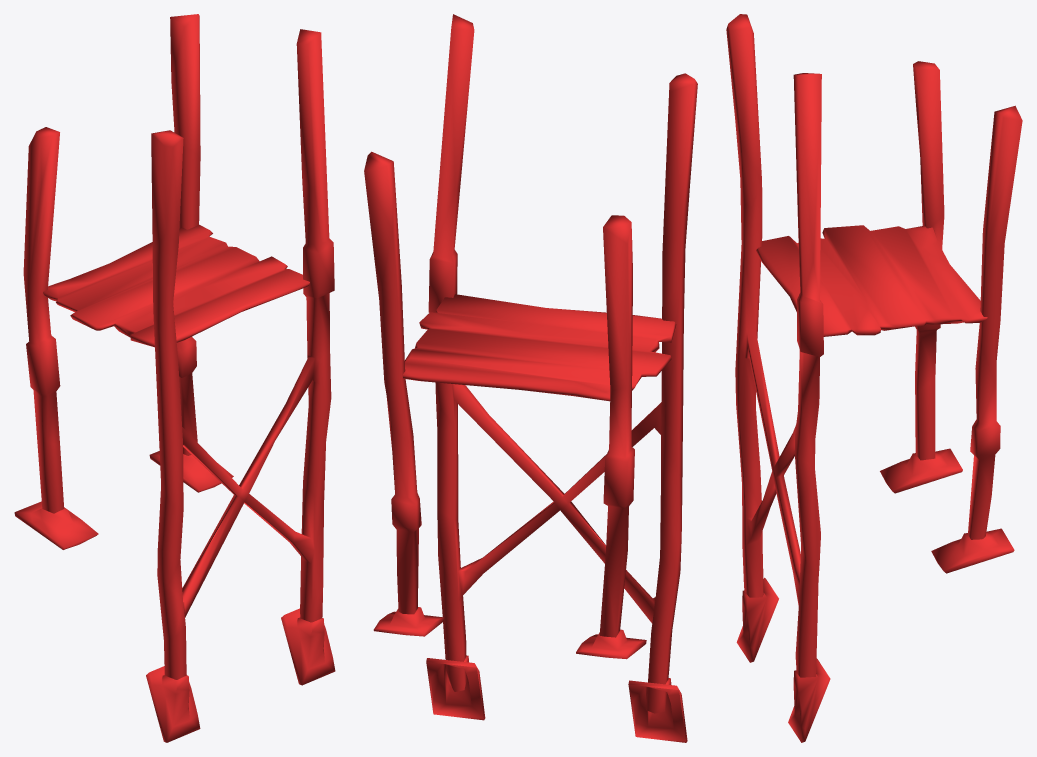
File: Tower_LOW.FBX
The picture shows the model from 3 angles, left to right: view 1: azimuth 30°, elevation 25°; view 2: azimuth 150°, elevation 25°; view 3: azimuth 270°, elevation 25°; orthographic projection. The views are drawn at different scales.
Parts seen in each view (by area): view 1: Merged_PM3D_towerLow8_2; view 2: Merged_PM3D_towerLow8_2; view 3: Merged_PM3D_towerLow8_2.
Part boxes in pixels (box(x1,y1,x2,y2)): Merged_PM3D_towerLow8_2: box(14, 14, 335, 742); Merged_PM3D_towerLow8_2: box(364, 14, 697, 742); Merged_PM3D_towerLow8_2: box(726, 14, 1022, 742).
Size of the model in its own units: 602 by 1492 by 608.
